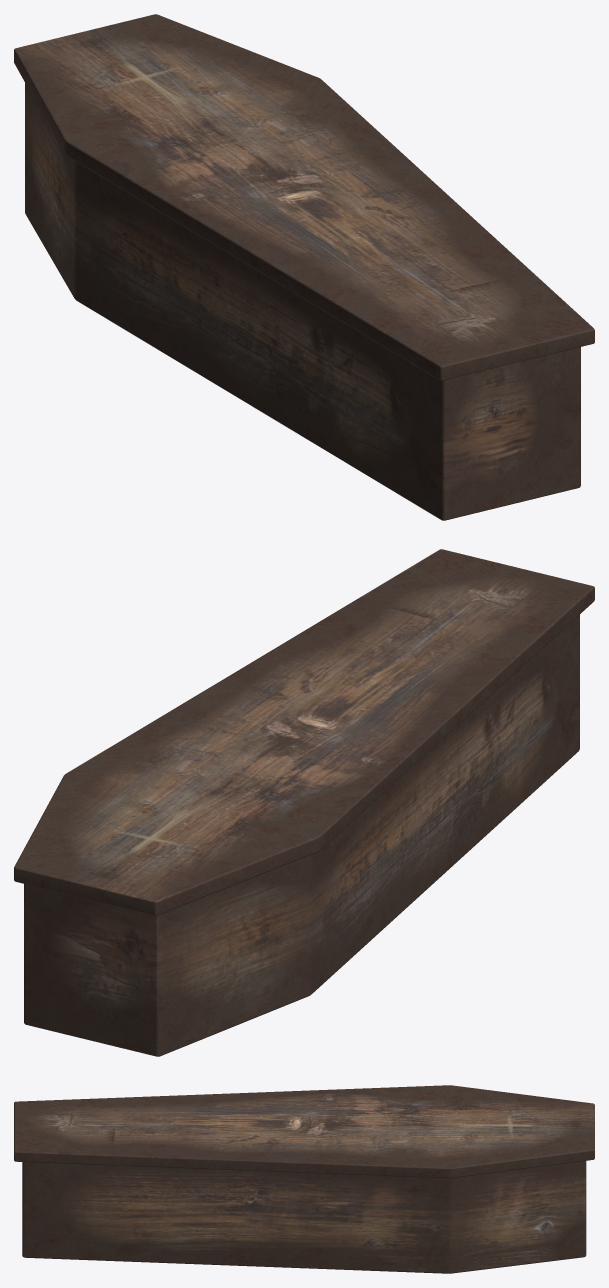
File: wooden_coffin (1).glb
3 views of the same model, one above another, from view 1: azimuth 30°, elevation 25°; view 2: azimuth 150°, elevation 25°; view 3: azimuth 270°, elevation 25° (orthographic). The views are drawn at different scales.
Visible parts, largest first — view 1: coffinlid_low_Material #78_0, coffinbase_low_Material #78_0; view 2: coffinlid_low_Material #78_0, coffinbase_low_Material #78_0; view 3: coffinbase_low_Material #78_0, coffinlid_low_Material #78_0.
Boxes of the visible parts, left/top/right/bottom form: coffinlid_low_Material #78_0: left=14, top=14, right=594, bottom=380; coffinbase_low_Material #78_0: left=25, top=83, right=580, bottom=520; coffinlid_low_Material #78_0: left=14, top=549, right=594, bottom=915; coffinbase_low_Material #78_0: left=24, top=614, right=579, bottom=1056; coffinbase_low_Material #78_0: left=22, top=1161, right=586, bottom=1273; coffinlid_low_Material #78_0: left=14, top=1085, right=594, bottom=1178.
Bounding box in the file's own units: 0.4462 × 0.2715 × 1.31.
1 material, 1 textured.
